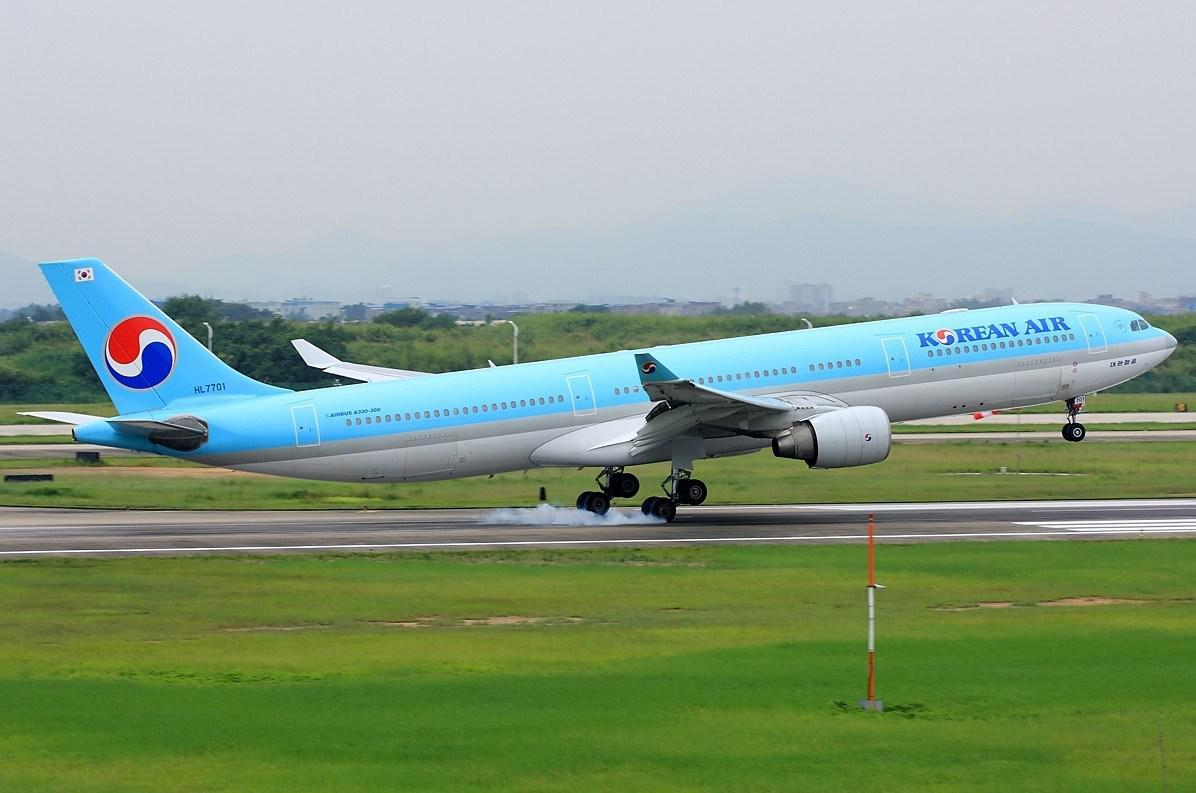airplane: (21, 250, 1180, 523)
